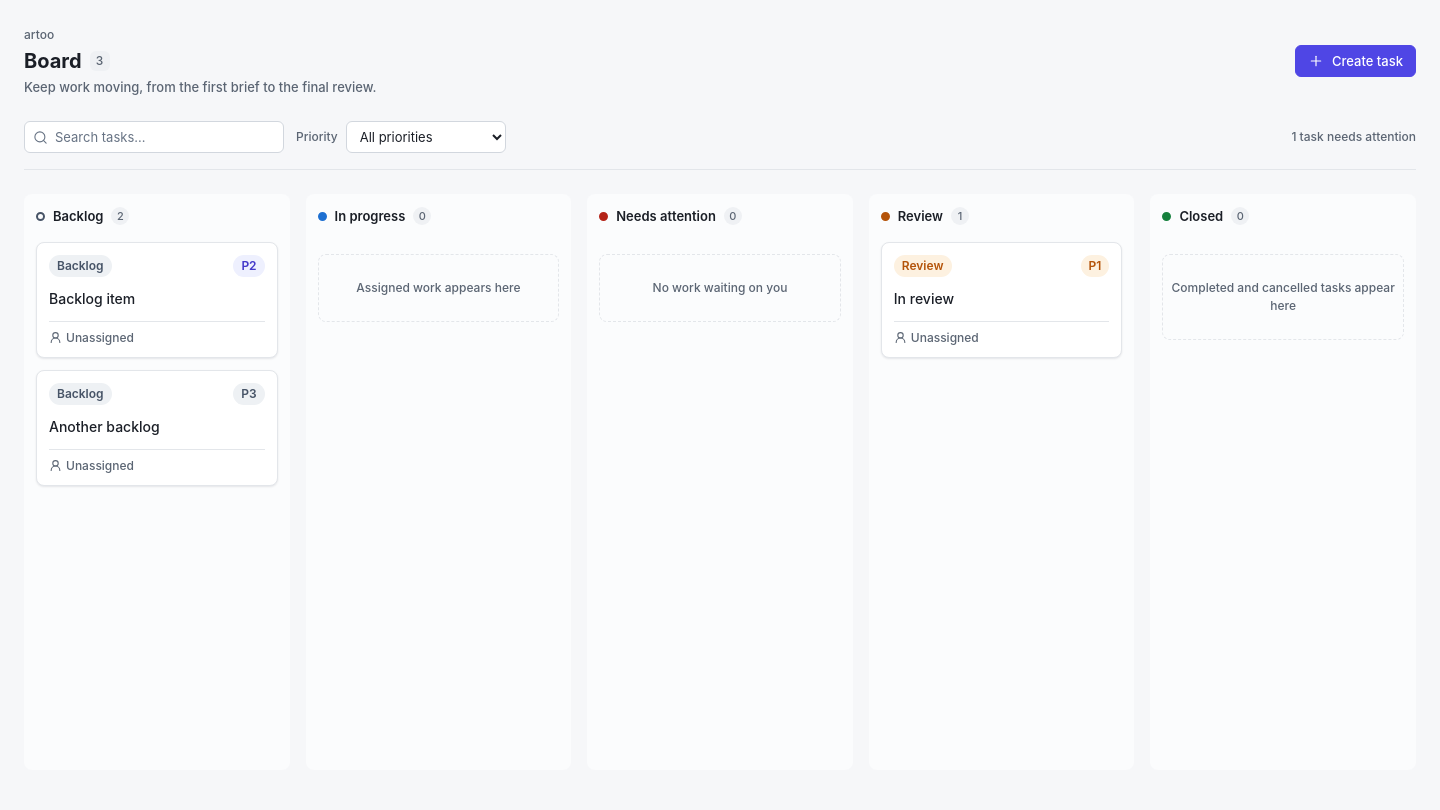
it: BoardView › opens task creation directly from the board
The width and height of the screenshot is (1440, 810).
Expected: the element "Backlog" is shown, [24, 194, 290, 770]
Click the button "Create task".
click(1356, 60)  # box [1295, 44, 1416, 76]
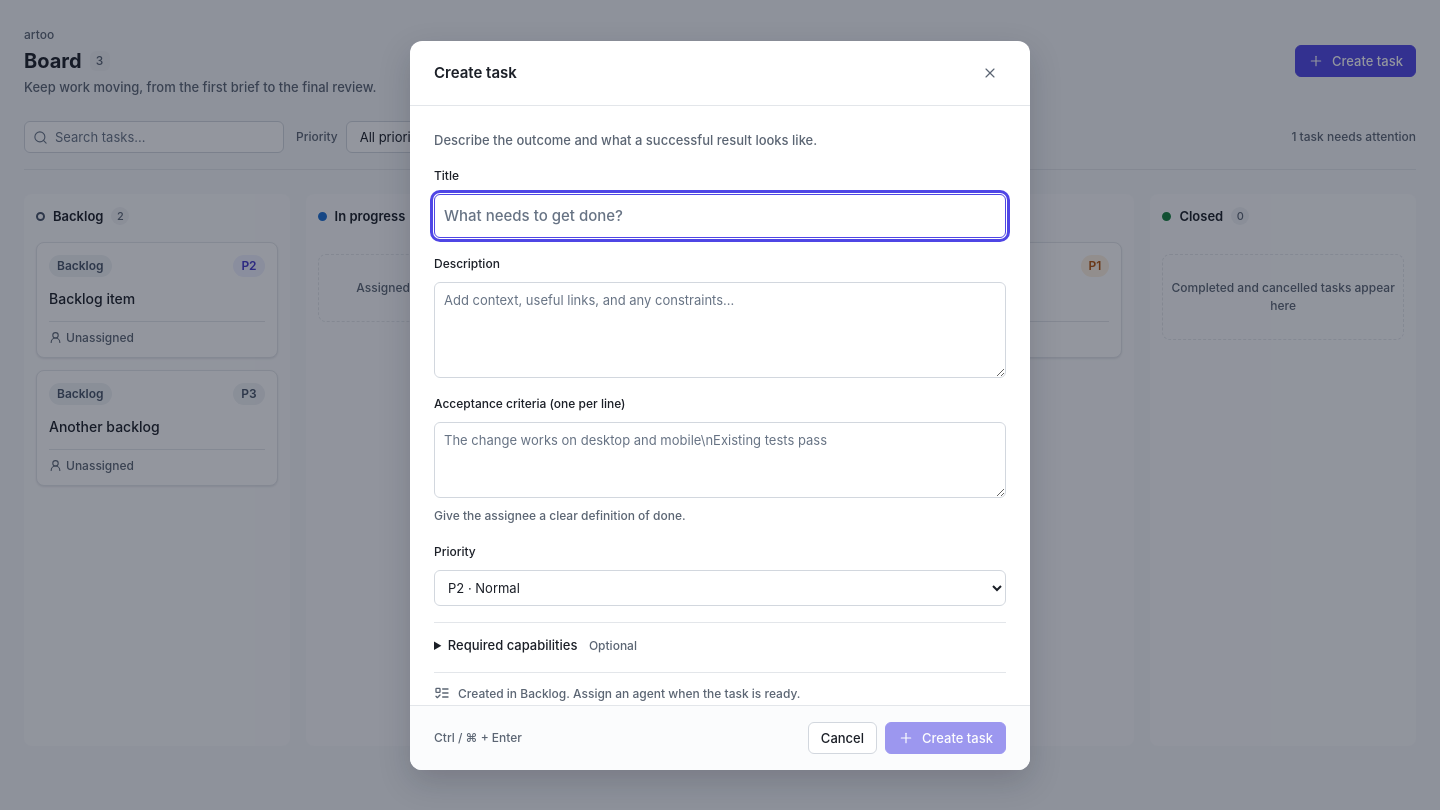
Expected: the dialog "Create task" is shown, [410, 40, 1030, 770]
